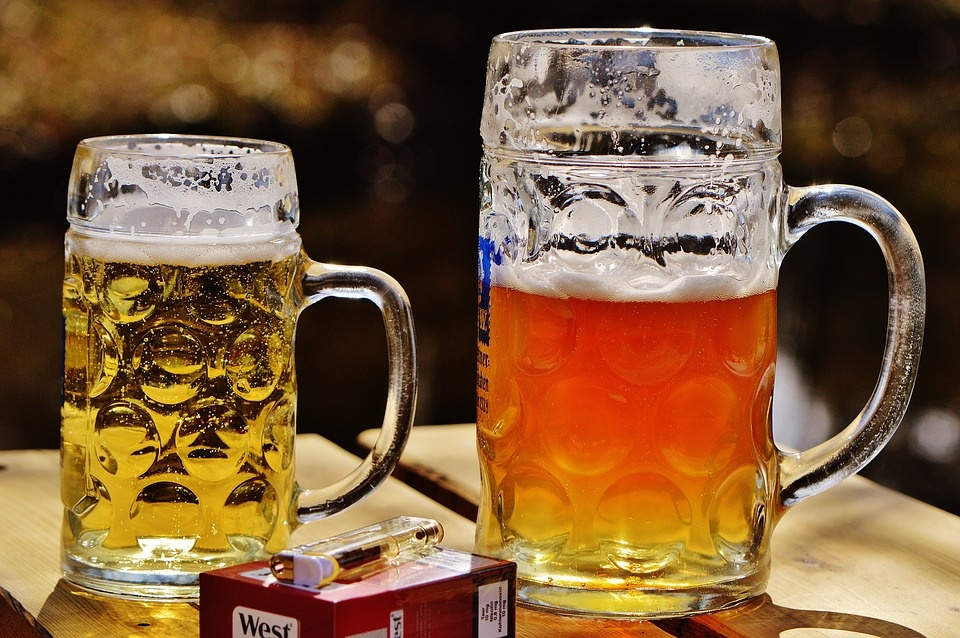glassBeer: (473, 35, 791, 619), (64, 136, 306, 576)
